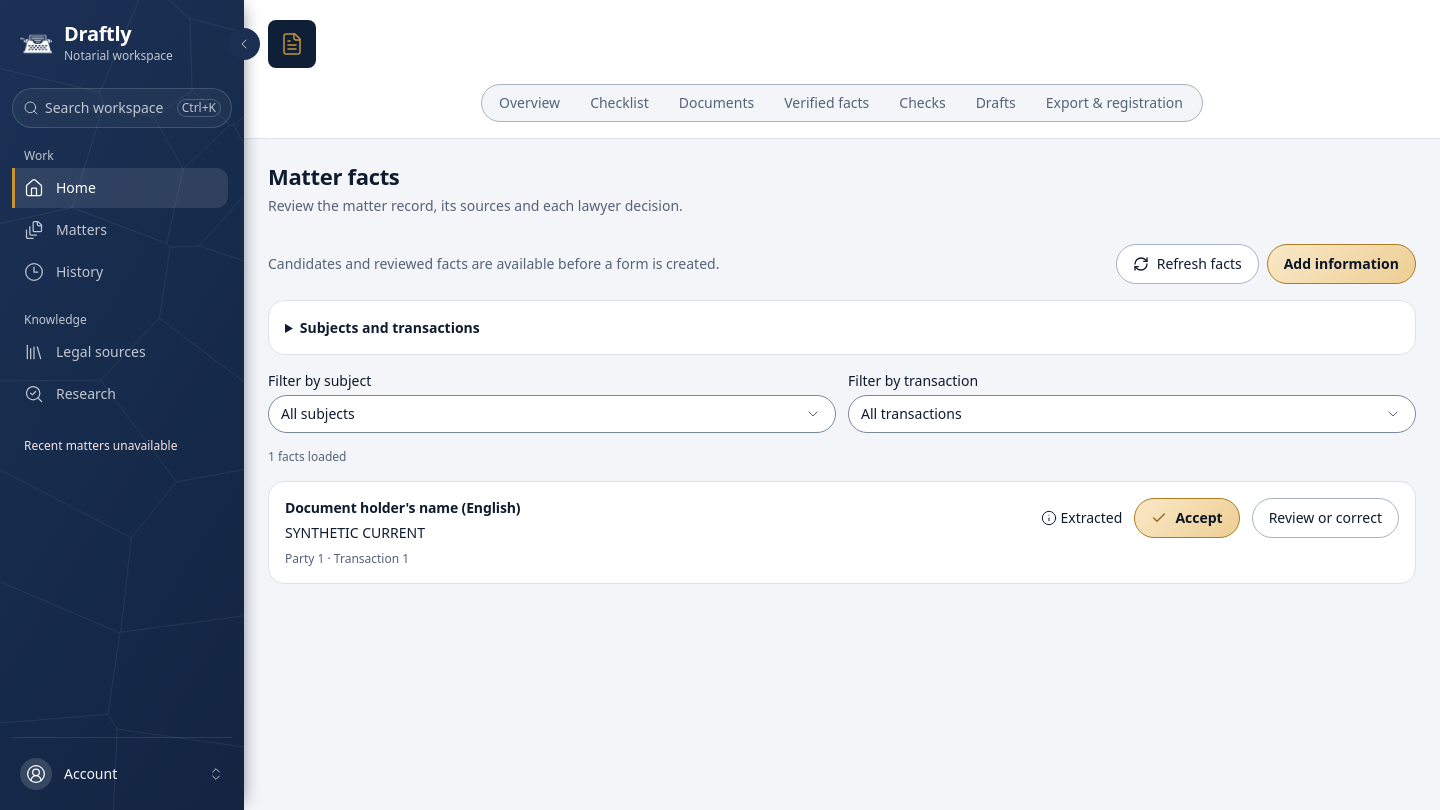
Scenario: canonical register › keeps the quick practice refusal when detailed review reports a different refusal
Click the button "Accept": (1187, 518) [1134,498,1240,538]
(page scrolled)
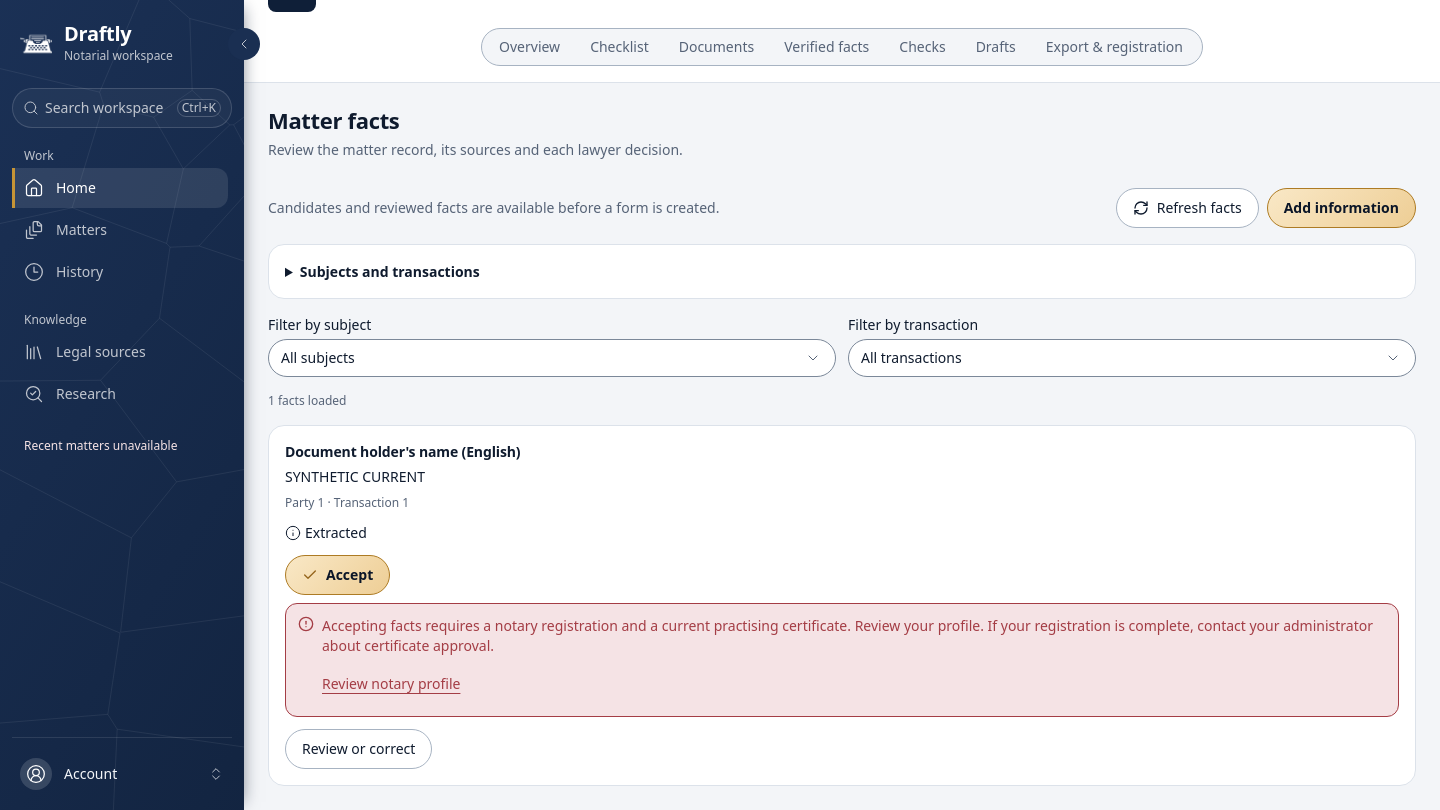
Now the text "Accepting facts requires a notary registration and a current practising certificate. Review your profile. If your regist" is shown, box [322,616,1373,654]
Click the button "Review or correct": (359, 748) [285,728,432,768]
(page scrolled)
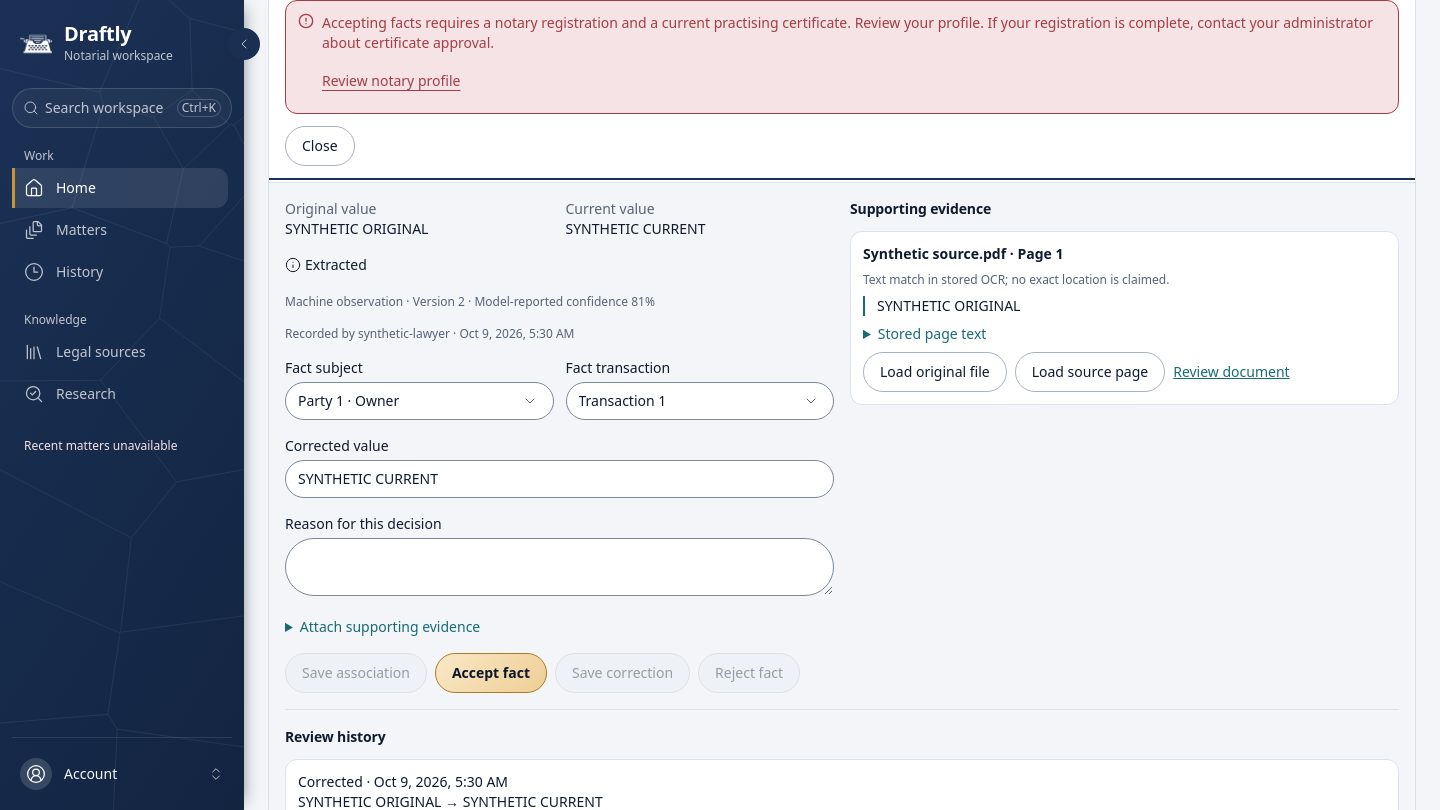
Now the button "Accept fact" is shown
Now the button "Accept fact" is enabled
Click the button "Accept fact": (491, 672) [435,652,547,692]
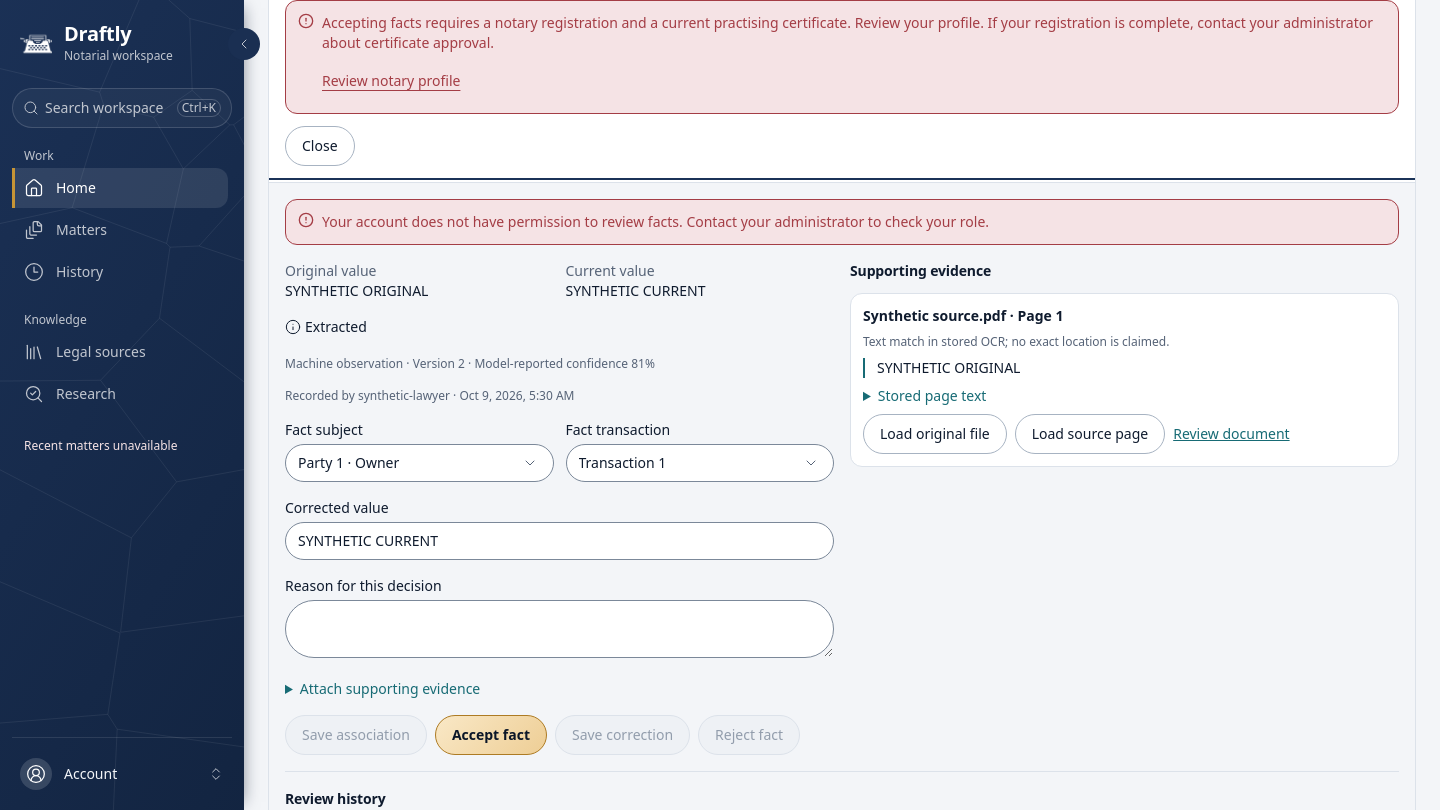
Now the text "Accepting facts requires a notary registration and a current practising certificate. Review your profile. If your regist" is shown, box [322,12,1373,52]
Now the text "Your account does not have permission to review facts. Contact your administrator to check your role." is shown, box [322,212,989,230]
